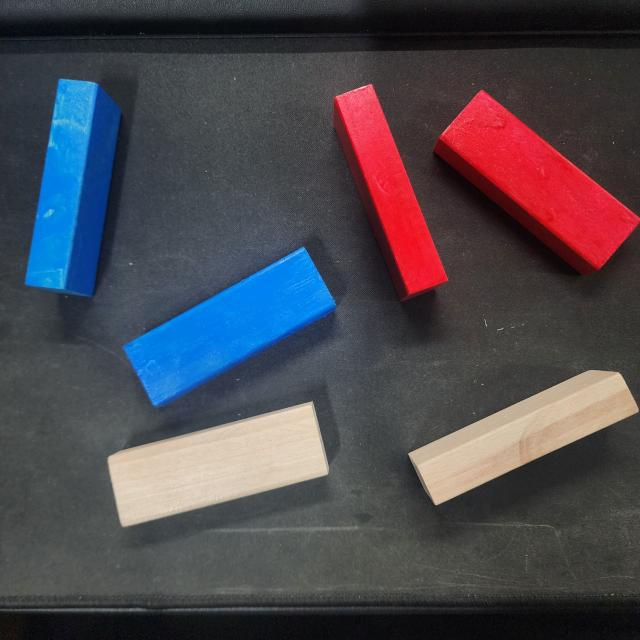blue: (120, 243, 339, 412), (25, 77, 127, 300)
red: (324, 83, 450, 303)
wood: (407, 357, 640, 508), (103, 401, 331, 527)
